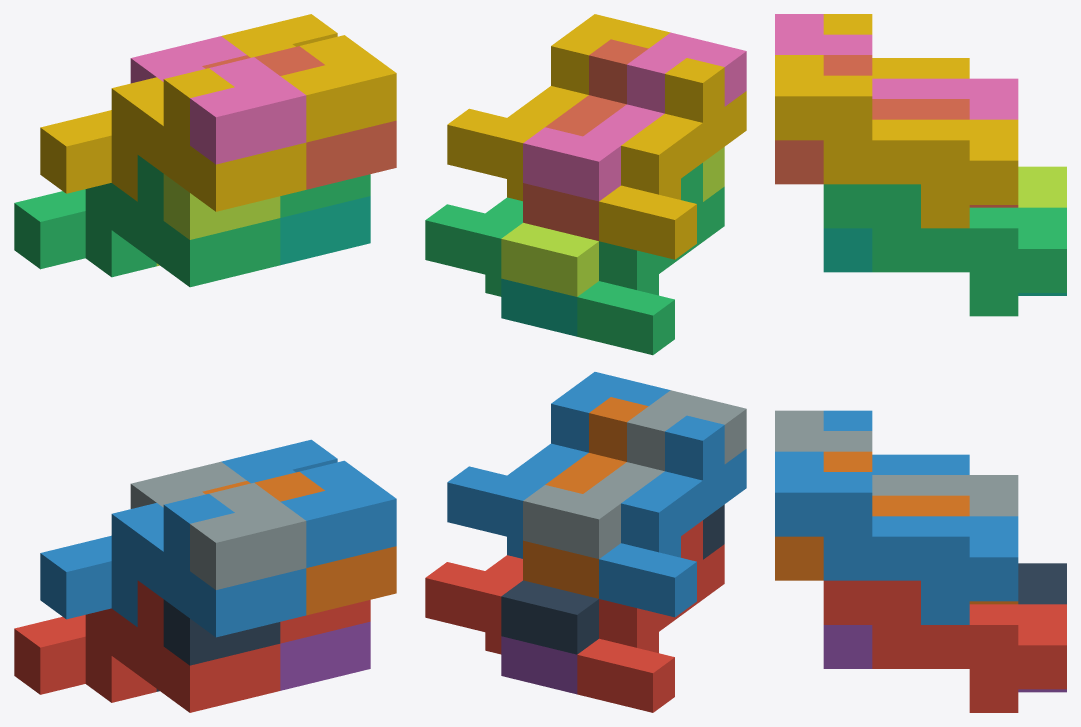
The model's file is tiling.obj.
The picture shows the model from 3 angles, left to right: view 1: azimuth 30°, elevation 25°; view 2: azimuth 150°, elevation 25°; view 3: azimuth 270°, elevation 25°; orthographic projection. The views are drawn at different scales.
Visible parts, largest first — view 1: copy_1_domain_4, copy_1_domain_2, copy_1_domain_1, copy_1_domain_3, copy_2_domain_4, copy_2_domain_2, copy_2_domain_8, copy_2_domain_6, copy_1_domain_6, copy_1_domain_8, copy_1_domain_7, copy_1_domain_5 (+4 smaller); view 2: copy_1_domain_4, copy_1_domain_2, copy_2_domain_4, copy_2_domain_2, copy_2_domain_8, copy_2_domain_6, copy_1_domain_3, copy_1_domain_1, copy_1_domain_8, copy_1_domain_6, copy_2_domain_3, copy_2_domain_1 (+4 smaller); view 3: copy_2_domain_8, copy_2_domain_6, copy_2_domain_7, copy_2_domain_5, copy_2_domain_2, copy_2_domain_4, copy_1_domain_6, copy_1_domain_8, copy_1_domain_4, copy_1_domain_2, copy_1_domain_5, copy_1_domain_7 (+2 smaller).
Part boxes in pixels (left/top/right/bottom): copy_1_domain_4: left=40, top=68, right=306, bottom=211; copy_1_domain_2: left=40, top=494, right=306, bottom=637; copy_1_domain_1: left=14, top=580, right=280, bottom=712; copy_1_domain_3: left=14, top=155, right=280, bottom=287; copy_2_domain_4: left=130, top=36, right=306, bottom=164; copy_2_domain_2: left=130, top=461, right=306, bottom=589; copy_2_domain_8: left=221, top=14, right=396, bottom=142; copy_2_domain_6: left=221, top=439, right=396, bottom=567; copy_1_domain_6: left=202, top=471, right=396, bottom=615; copy_1_domain_8: left=202, top=46, right=396, bottom=189; copy_1_domain_7: left=280, top=196, right=370, bottom=265; copy_1_domain_5: left=280, top=621, right=370, bottom=690; copy_1_domain_4: left=599, top=58, right=746, bottom=259; copy_1_domain_2: left=599, top=415, right=746, bottom=617; copy_2_domain_4: left=523, top=32, right=746, bottom=201; copy_2_domain_2: left=523, top=390, right=746, bottom=558; copy_2_domain_8: left=447, top=14, right=670, bottom=201; copy_2_domain_6: left=447, top=372, right=670, bottom=558; copy_1_domain_3: left=577, top=163, right=724, bottom=355; copy_1_domain_1: left=577, top=520, right=724, bottom=712; copy_1_domain_8: left=523, top=39, right=648, bottom=240; copy_1_domain_6: left=523, top=397, right=648, bottom=598; copy_2_domain_3: left=501, top=147, right=724, bottom=296; copy_2_domain_1: left=501, top=504, right=724, bottom=654; copy_2_domain_8: left=775, top=55, right=1018, bottom=228; copy_2_domain_6: left=775, top=451, right=1018, bottom=624; copy_2_domain_7: left=823, top=184, right=1066, bottom=316; copy_2_domain_5: left=823, top=580, right=1066, bottom=712; copy_2_domain_2: left=775, top=410, right=1018, bottom=516; copy_2_domain_4: left=775, top=14, right=1018, bottom=119; copy_1_domain_6: left=775, top=451, right=1018, bottom=604; copy_1_domain_8: left=775, top=55, right=1018, bottom=207; copy_1_domain_4: left=823, top=14, right=969, bottom=78; copy_1_domain_2: left=823, top=410, right=969, bottom=474; copy_1_domain_5: left=823, top=625, right=1066, bottom=692; copy_1_domain_7: left=823, top=228, right=1066, bottom=295.
Bounding box in the file's own units: 6 × 14 × 6.
